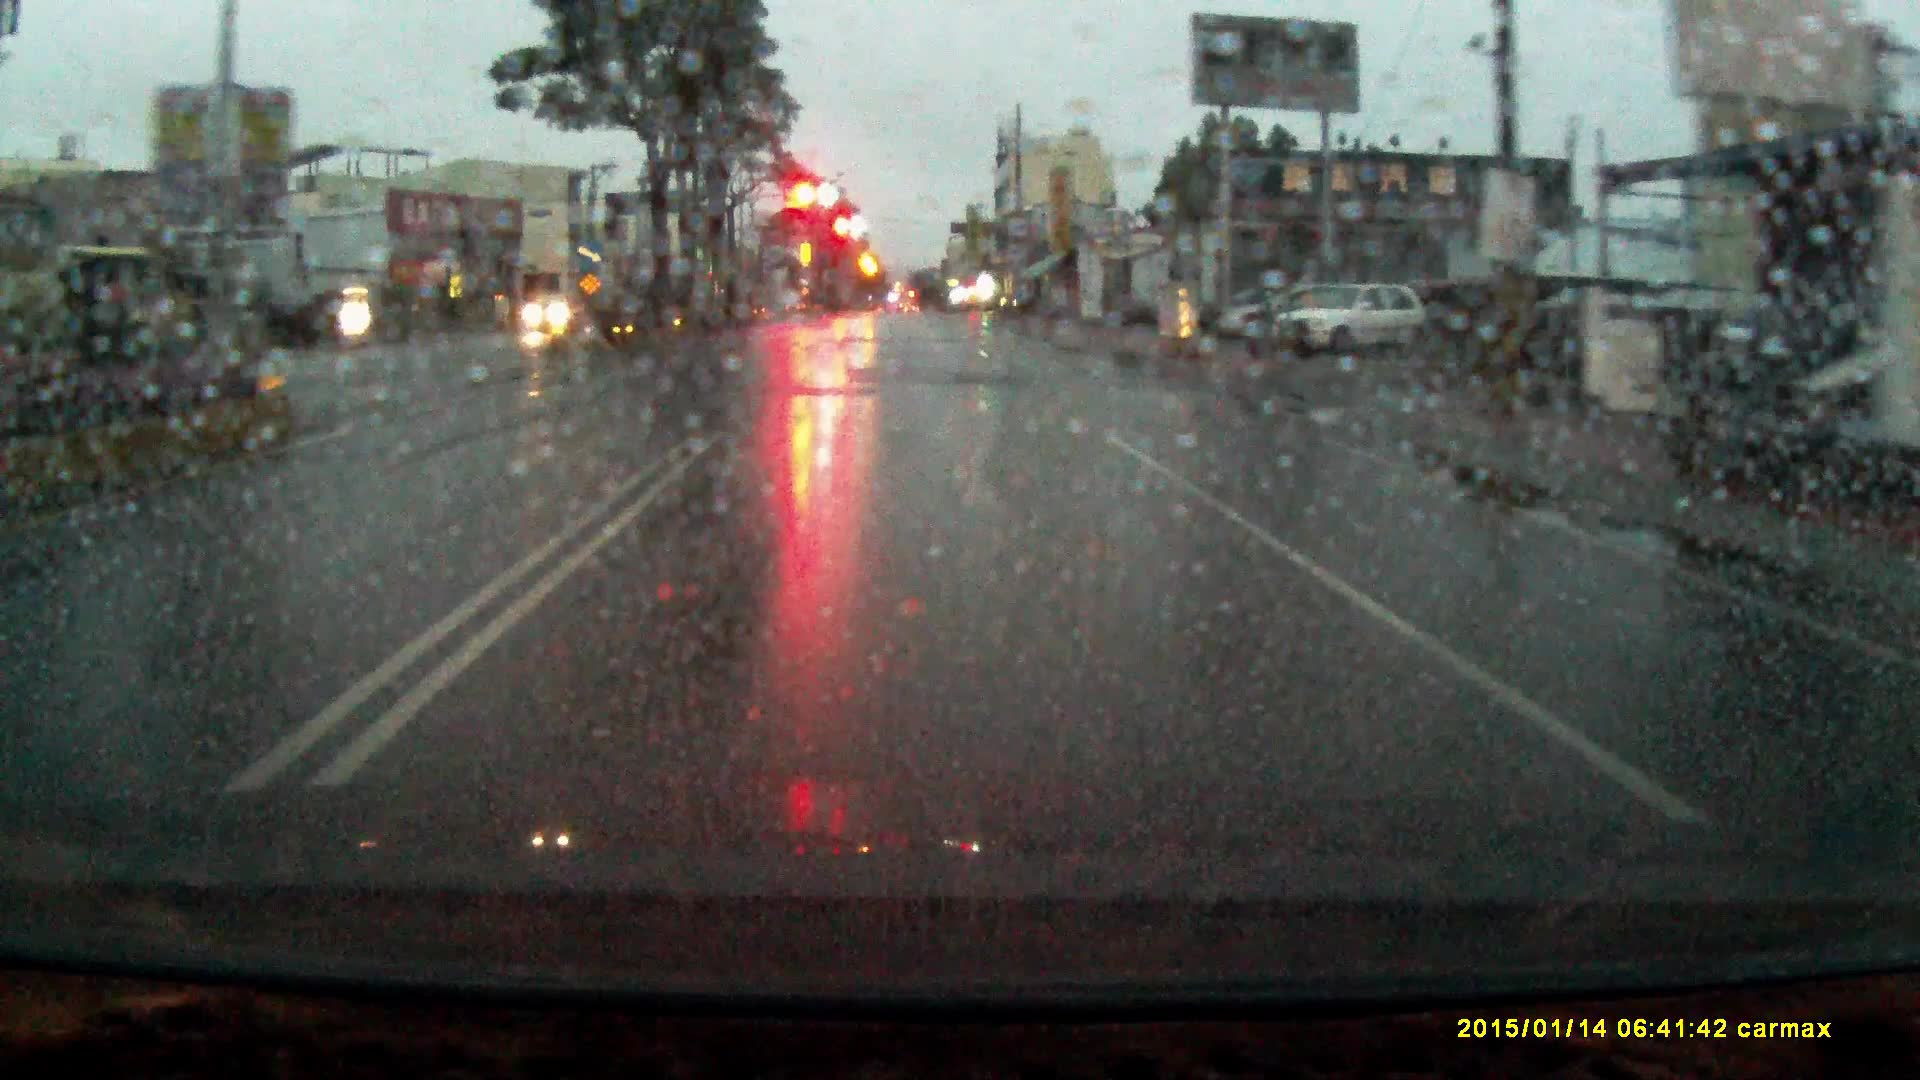vehicle: (1269, 282, 1436, 356), (1241, 281, 1373, 349), (526, 294, 593, 334), (1000, 284, 1048, 319)
